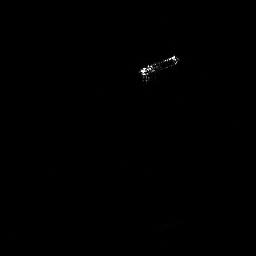ship: (137, 53, 180, 86)
